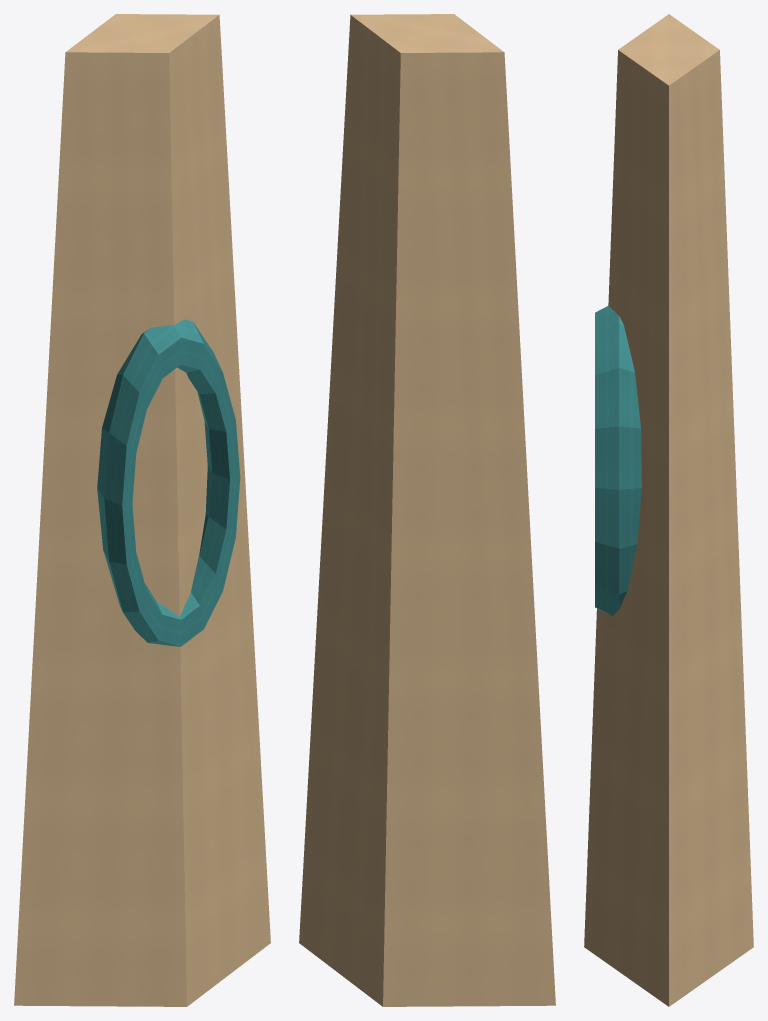
File: atlas100-s095-a05.glb
3 views of the same model, side by side, from view 1: azimuth 30°, elevation 25°; view 2: azimuth 150°, elevation 25°; view 3: azimuth 270°, elevation 25° (orthographic). The views are drawn at different scales.
Parts seen in each view (by area): view 1: atlas100-s095-a05:part-000, atlas100-s095-a05:part-001; view 2: atlas100-s095-a05:part-000; view 3: atlas100-s095-a05:part-000, atlas100-s095-a05:part-001.
Boxes of the visible parts, bbox=[...] form: atlas100-s095-a05:part-000: bbox=[14, 14, 270, 1006]; atlas100-s095-a05:part-001: bbox=[97, 319, 240, 646]; atlas100-s095-a05:part-000: bbox=[299, 14, 555, 1006]; atlas100-s095-a05:part-000: bbox=[584, 14, 753, 1006]; atlas100-s095-a05:part-001: bbox=[595, 305, 641, 615].
Size of the model in its own units: 0.2184 by 0.7644 by 0.131.
2 materials, 2 textured.
